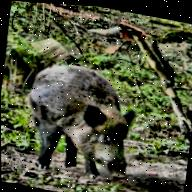boar: (19, 56, 145, 187)
